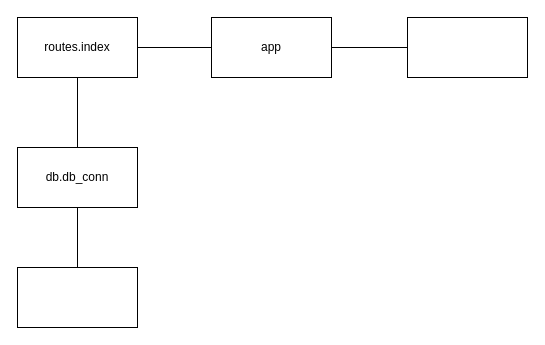
Image size: 545x345. Some labels were removed from this diagram. The shapes that lost their labels are listed below. From the top down, each one's centre as x and y in pixels, then its label:
At point 467,47: "bin.www".
At point 77,297: "db.db_info".
